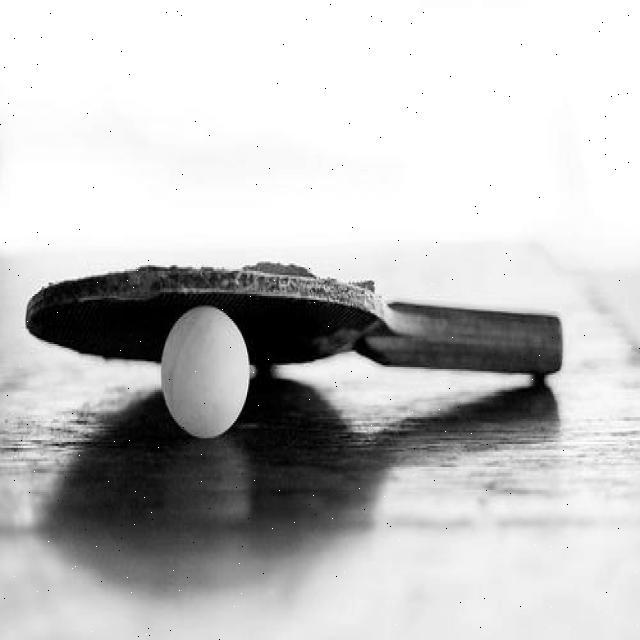ping-pong-ball: (160, 304, 252, 442)
